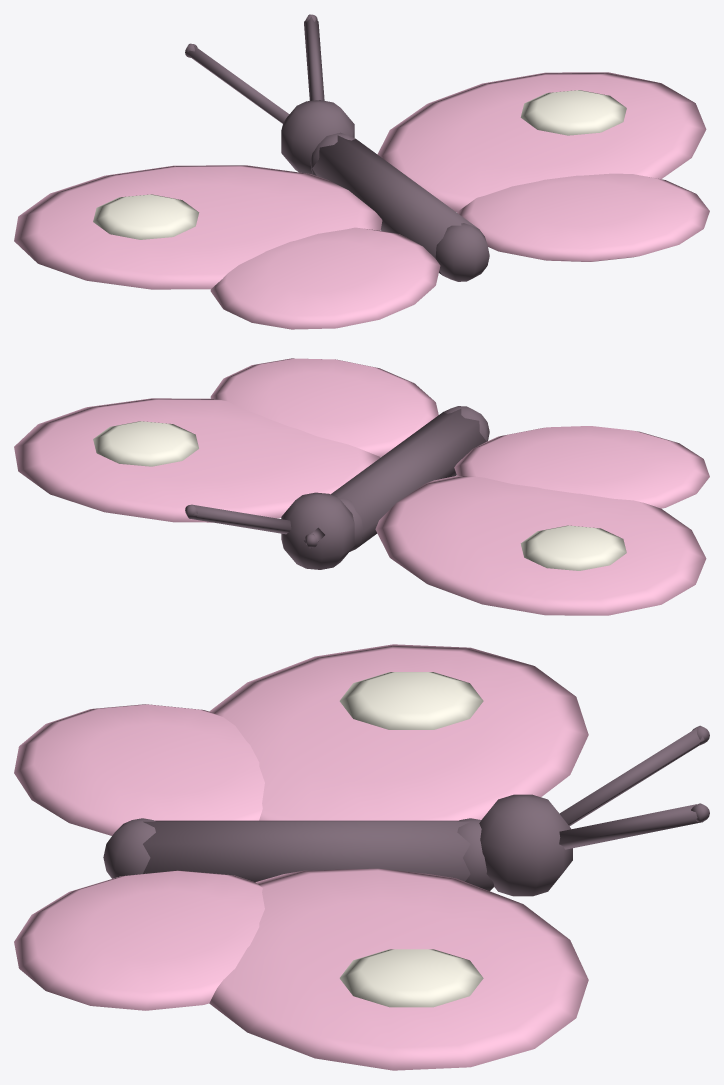
Rendered from butterfly.glb.
3 views of the same model, one above another, from view 1: azimuth 30°, elevation 25°; view 2: azimuth 150°, elevation 25°; view 3: azimuth 270°, elevation 25° (orthographic). The views are drawn at different scales.
Parts seen in each view (by area): view 1: WingL, WingR, Body; view 2: WingL, WingR, Body; view 3: WingR, WingL, Body.
Part boxes in pixels (x1=…): WingL: x1=14, y1=165, x2=440, y2=329; WingR: x1=377, y1=72, x2=709, y2=261; Body: x1=185, y1=14, x2=489, y2=281; WingL: x1=375, y1=426, x2=709, y2=615; WingR: x1=14, y1=358, x2=438, y2=522; Body: x1=185, y1=406, x2=489, y2=569; WingR: x1=14, y1=868, x2=588, y2=1070; WingL: x1=14, y1=644, x2=588, y2=835; Body: x1=103, y1=725, x2=709, y2=896.
Size of the model in its own units: 0.1538 by 0.0215 by 0.1061.
